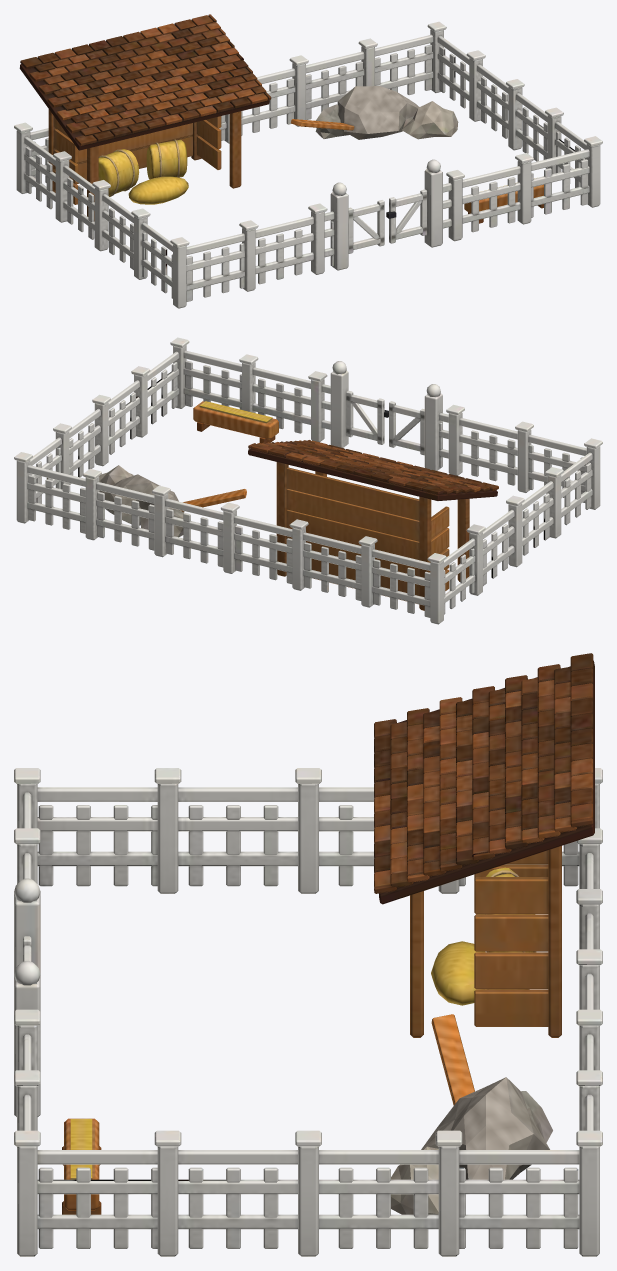
Rendered from saanen_yard.glb.
3 renders of one model, top to bottom at view 1: azimuth 30°, elevation 25°; view 2: azimuth 150°, elevation 25°; view 3: azimuth 270°, elevation 25°, orthographic. The views are drawn at different scales.
Parts seen in each view (by area): view 1: saanen_yard, gate1, gate0; view 2: saanen_yard, gate1, gate0; view 3: saanen_yard.
Part boxes in pixels (x1,y1,x2,y2): saanen_yard: (14,14,602,308); gate1: (386,189,427,243); gate0: (348,200,384,253); saanen_yard: (14,337,602,624); gate1: (346,390,388,444); gate0: (389,401,424,455); saanen_yard: (14,653,602,1256).
Bounding box in the file's own units: 2.99 × 0.9342 × 1.99.
Materials: 1 (1 with a texture image).
